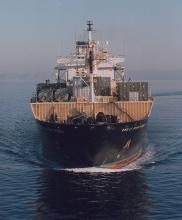Cargoship: (24, 9, 155, 166)
